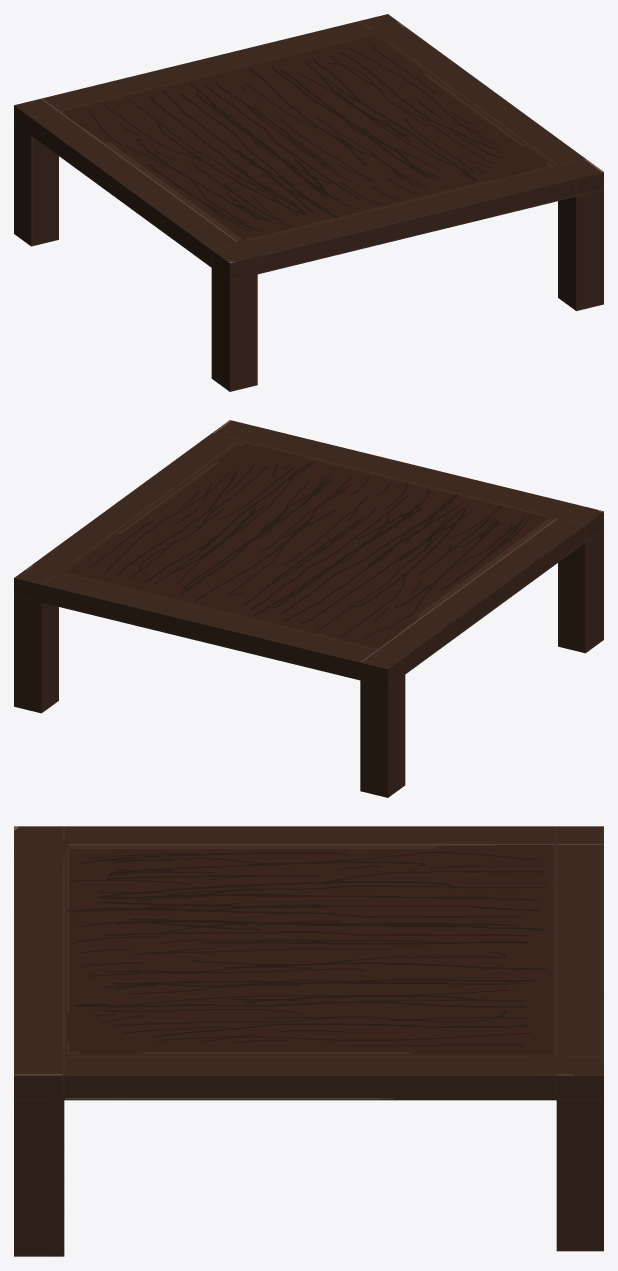
File: Table.fbx
3 views of the same model, one above another, from view 1: azimuth 30°, elevation 25°; view 2: azimuth 150°, elevation 25°; view 3: azimuth 270°, elevation 25° (orthographic). The views are drawn at different scales.
Parts seen in each view (by area): view 1: Table; view 2: Table; view 3: Table.
Part boxes in pixels (left/top/right/bottom): Table: left=14, top=14, right=603, bottom=391; Table: left=14, top=420, right=603, bottom=797; Table: left=14, top=826, right=603, bottom=1256.
Size of the model in its own units: 200 by 67.65 by 200.
Materials: 1 (1 with a texture image).
